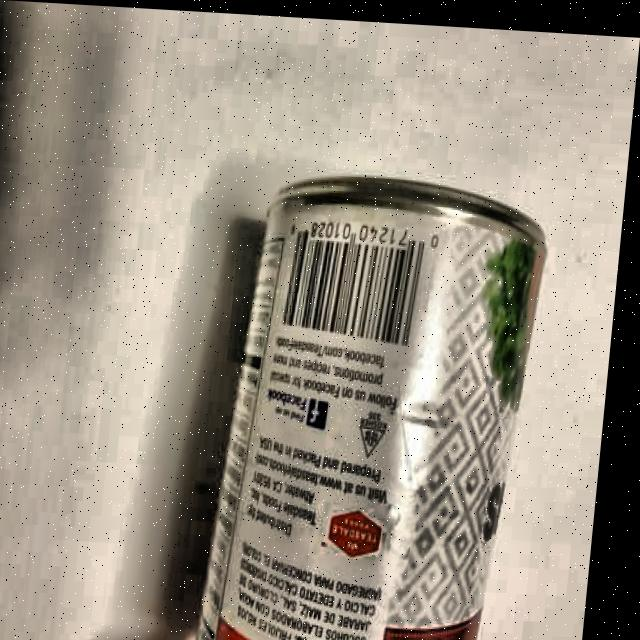metal: (190, 167, 554, 640)
